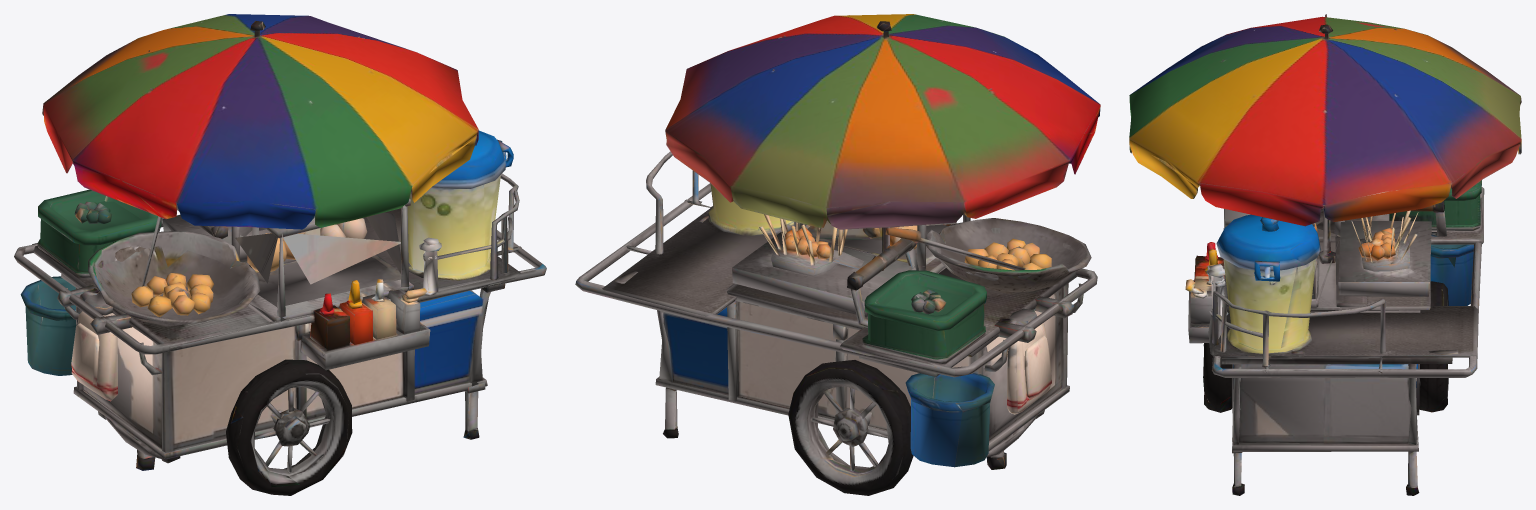
File: fishball_cart.glb
3 renders of one model, left to right at view 1: azimuth 30°, elevation 25°; view 2: azimuth 150°, elevation 25°; view 3: azimuth 270°, elevation 25°, orthographic. The views are drawn at different scales.
Visible parts, largest first — view 1: Mesh0; view 2: Mesh0; view 3: Mesh0.
Boxes of the visible parts, x1,y1,x2,y2 form: Mesh0: (14, 14, 546, 495); Mesh0: (575, 14, 1100, 495); Mesh0: (1129, 14, 1521, 495).
Bounding box in the file's own units: 1 × 0.9704 × 0.8775.
Materials: 1 (1 with a texture image).
